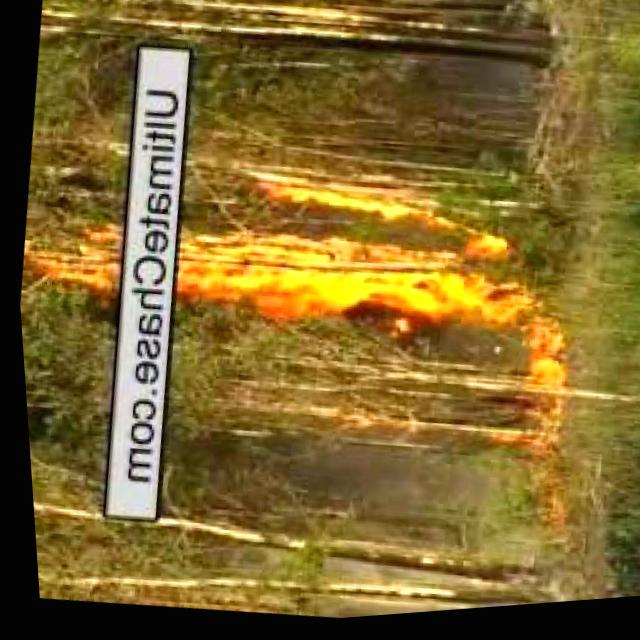Fire: (173, 212, 517, 353), (251, 156, 459, 248), (521, 301, 570, 421), (37, 235, 116, 291)
